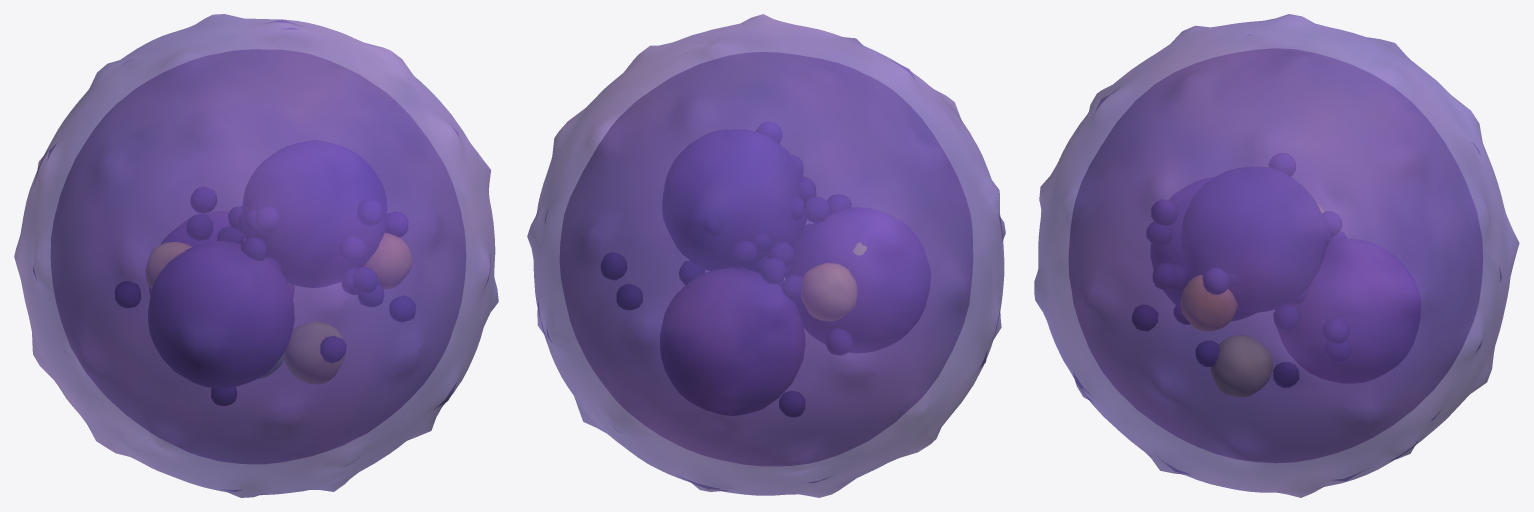
File: lysosome.glb
3 renders of one model, left to right at view 1: azimuth 30°, elevation 25°; view 2: azimuth 150°, elevation 25°; view 3: azimuth 270°, elevation 25°, orthographic.
Visible parts, largest first — view 1: lysosome-membrane, lysosome-contents; view 2: lysosome-membrane, lysosome-contents; view 3: lysosome-membrane, lysosome-contents.
Boxes of the visible parts, box(x1,y1,x2,y2) form: lysosome-membrane: box(14, 14, 498, 497); lysosome-contents: box(115, 140, 415, 405); lysosome-membrane: box(527, 14, 1005, 497); lysosome-contents: box(601, 121, 930, 417); lysosome-membrane: box(1034, 14, 1519, 497); lysosome-contents: box(1132, 153, 1420, 396).
Size of what is drawn, in the model's own units: 1.14 by 1.12 by 1.13.
